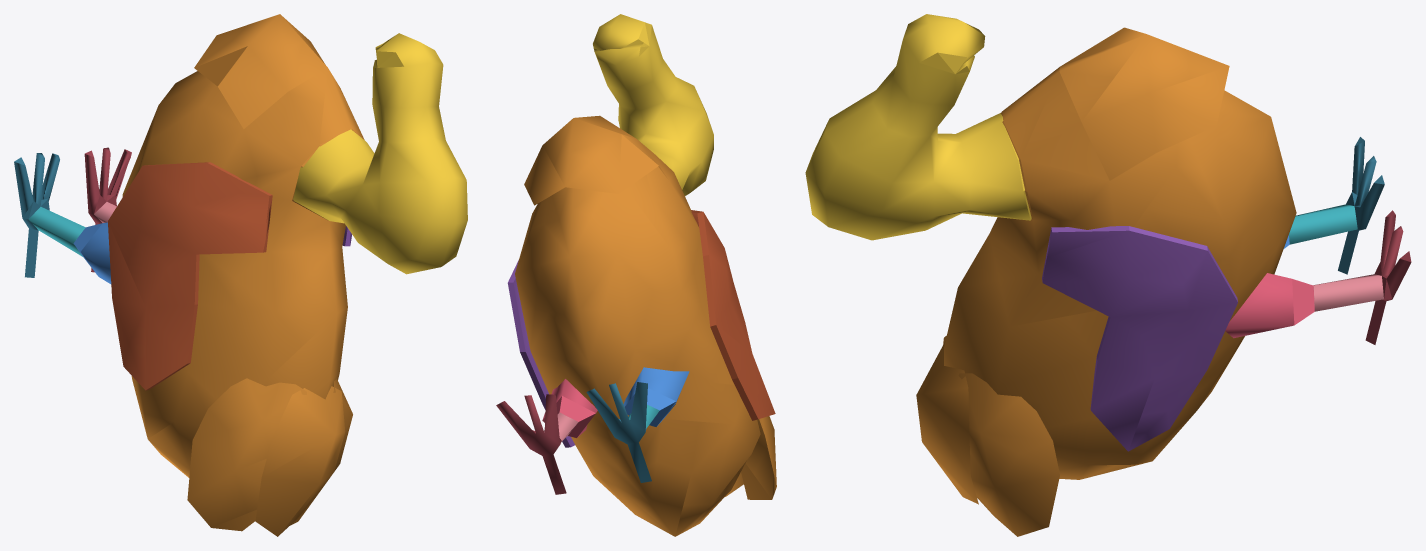
Rendered from dodo_1m.obj.
The picture shows the model from 3 angles, left to right: view 1: azimuth 30°, elevation 25°; view 2: azimuth 150°, elevation 25°; view 3: azimuth 270°, elevation 25°; orthographic projection. The views are drawn at different scales.
Visible parts, largest first — view 1: 01_cuerpo, 02_cabeza, 03_pieza_frontal, 07_pata_a_pie, 10_pata_b_pie, 05_pata_a_muslo, 06_pata_a_canilla; view 2: 01_cuerpo, 02_cabeza, 03_pieza_frontal, 07_pata_a_pie, 10_pata_b_pie, 05_pata_a_muslo, 04_pieza_lateral, 08_pata_b_muslo, 09_pata_b_canilla; view 3: 01_cuerpo, 02_cabeza, 04_pieza_lateral, 08_pata_b_muslo, 07_pata_a_pie, 10_pata_b_pie, 09_pata_b_canilla, 06_pata_a_canilla.
Part boxes in pixels (x1,y1,x2,y2): 01_cuerpo: (122, 14, 364, 536); 02_cabeza: (293, 33, 467, 274); 03_pieza_frontal: (108, 162, 272, 390); 07_pata_a_pie: (14, 153, 59, 277); 10_pata_b_pie: (84, 147, 131, 272); 05_pata_a_muslo: (73, 222, 111, 284); 06_pata_a_canilla: (28, 207, 85, 256); 01_cuerpo: (515, 115, 776, 536); 02_cabeza: (593, 14, 713, 195); 03_pieza_frontal: (691, 210, 775, 420); 07_pata_a_pie: (586, 382, 651, 482); 10_pata_b_pie: (496, 394, 566, 494); 05_pata_a_muslo: (623, 367, 689, 426); 04_pieza_lateral: (507, 260, 574, 447); 08_pata_b_muslo: (542, 379, 597, 437); 09_pata_b_canilla: (544, 412, 578, 440); 01_cuerpo: (916, 27, 1296, 536); 02_cabeza: (805, 14, 1031, 240); 04_pieza_lateral: (1042, 226, 1237, 451); 08_pata_b_muslo: (1225, 273, 1314, 338); 07_pata_a_pie: (1338, 137, 1384, 274); 10_pata_b_pie: (1365, 210, 1411, 344); 09_pata_b_canilla: (1313, 274, 1383, 311); 06_pata_a_canilla: (1289, 204, 1357, 244).
Bounding box in the file's own units: 527 × 1019 × 1000.
